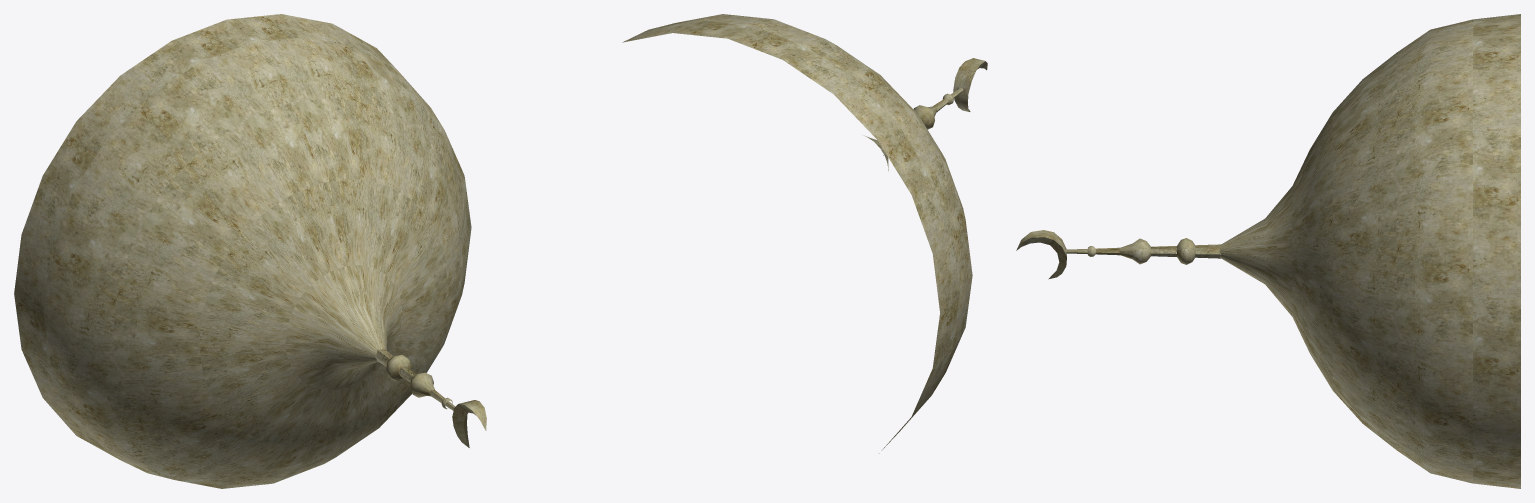
File: dome_06.glb
The picture shows the model from 3 angles, left to right: view 1: azimuth 30°, elevation 25°; view 2: azimuth 150°, elevation 25°; view 3: azimuth 270°, elevation 25°; orthographic projection. The views are drawn at different scales.
Bounding box in the file's own units: 314 × 314 × 332.
1 material, 1 textured.
